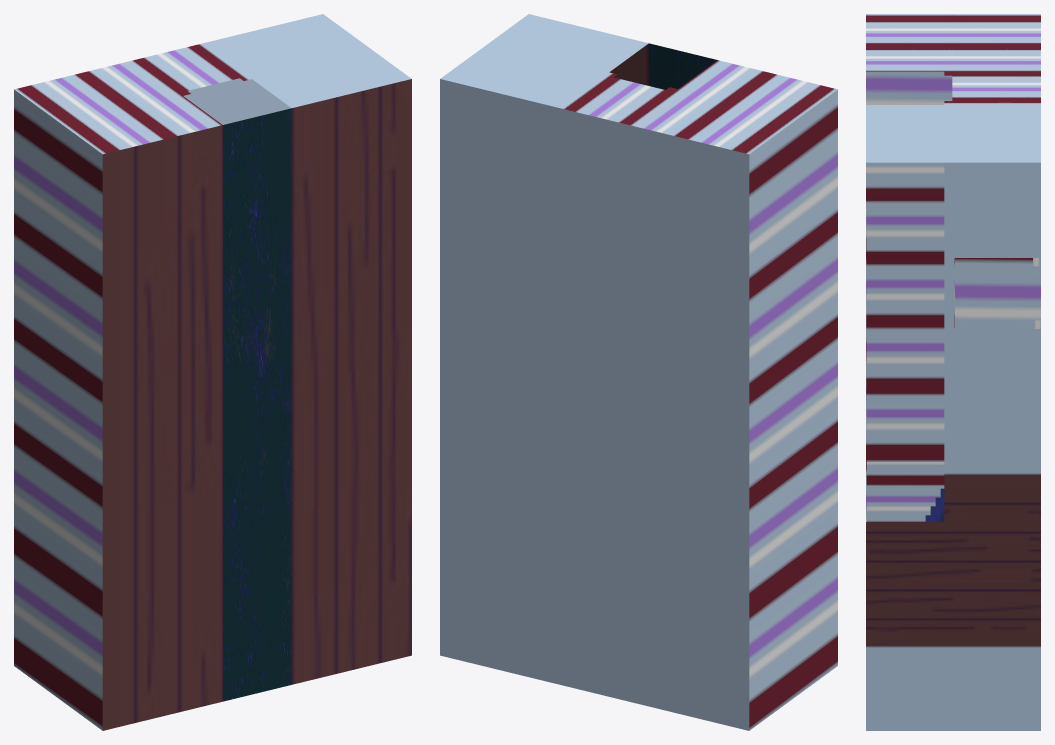
File: Hall_SalaGrande_Escaleras.fbx
3 views of the same model, side by side, from view 1: azimuth 30°, elevation 25°; view 2: azimuth 150°, elevation 25°; view 3: azimuth 270°, elevation 25° (orthographic).
Visible parts, largest first — view 1: Hall_SalaGrande_Escaleras; view 2: Hall_SalaGrande_Escaleras; view 3: Hall_SalaGrande_Escaleras, Stairs.
Part boxes in pixels (box(x1,y1,x2,y2)): Hall_SalaGrande_Escaleras: box(14, 14, 411, 730); Hall_SalaGrande_Escaleras: box(440, 14, 837, 730); Hall_SalaGrande_Escaleras: box(866, 14, 1040, 730); Stairs: box(866, 162, 954, 521).
Size of the model in its own units: 898 by 1600 by 446.
2 materials, 2 textured.
